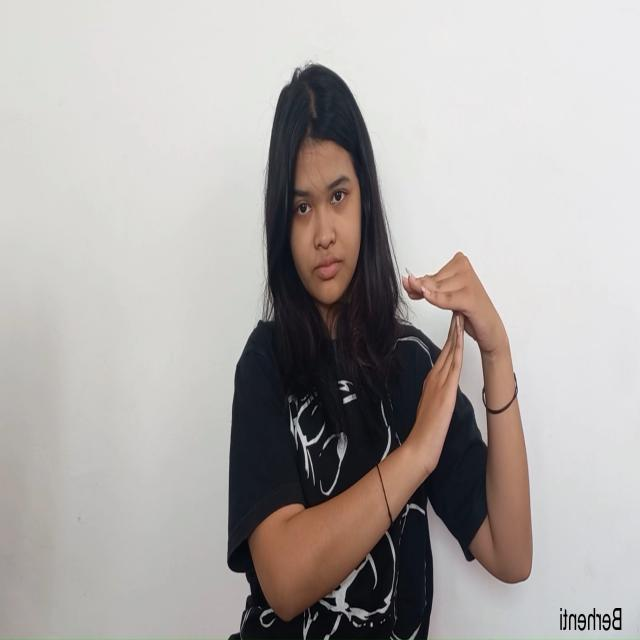Berhenti -BISINDO-: (399, 248, 518, 490)
